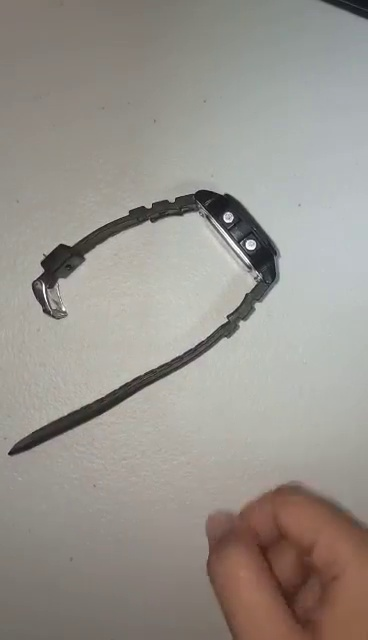watch: (9, 191, 278, 456)
